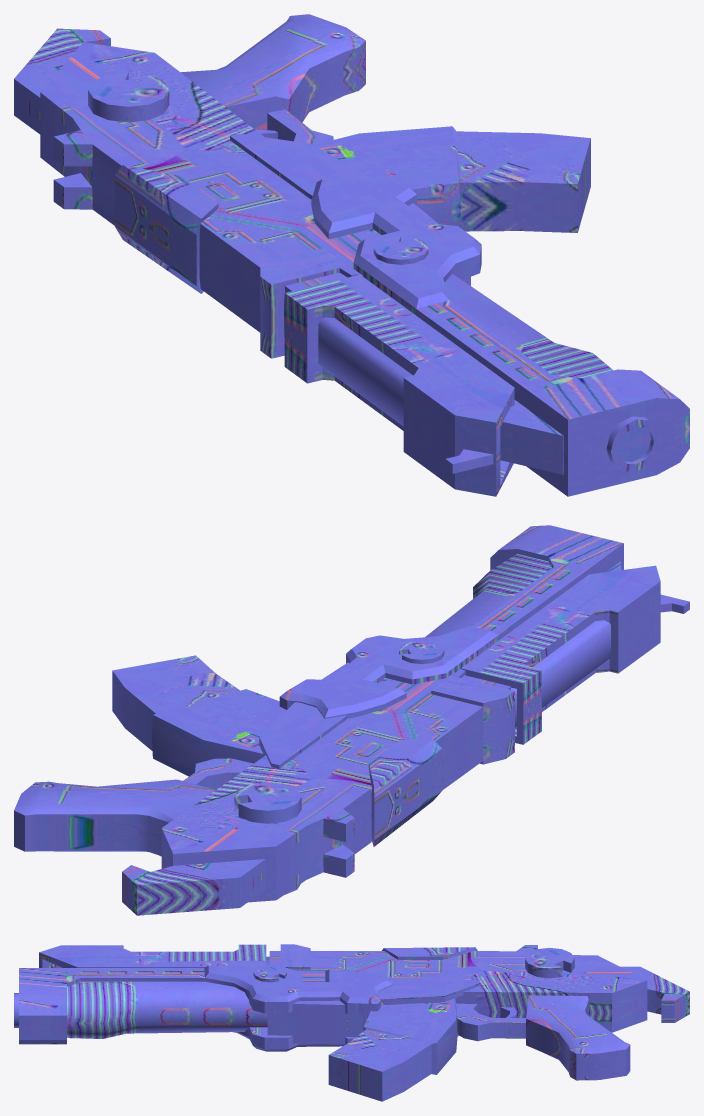
File: Laser_Rifle.glb
The picture shows the model from 3 angles, top to bottom: view 1: azimuth 30°, elevation 25°; view 2: azimuth 150°, elevation 25°; view 3: azimuth 270°, elevation 25°; orthographic projection. The views are drawn at different scales.
Visible parts, largest first — view 1: Laser_Rifle; view 2: Laser_Rifle; view 3: Laser_Rifle.
Boxes of the visible parts, x1=… form: Laser_Rifle: x1=14, y1=14, x2=689, y2=496; Laser_Rifle: x1=14, y1=525, x2=689, y2=915; Laser_Rifle: x1=14, y1=944, x2=689, y2=1101.
Bounding box in the file's own units: 3.03 × 0.7191 × 6.95.
Materials: 1 (1 with a texture image).
